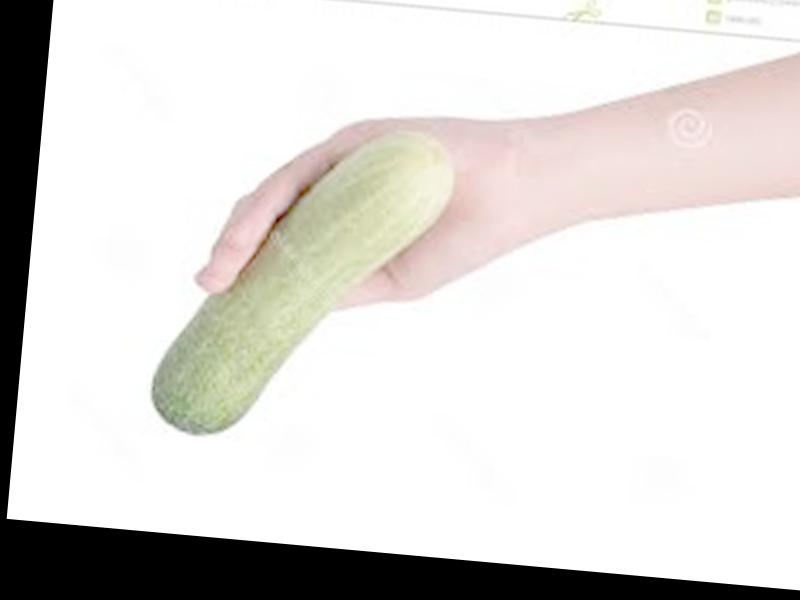Cucumber: (151, 113, 457, 453)
